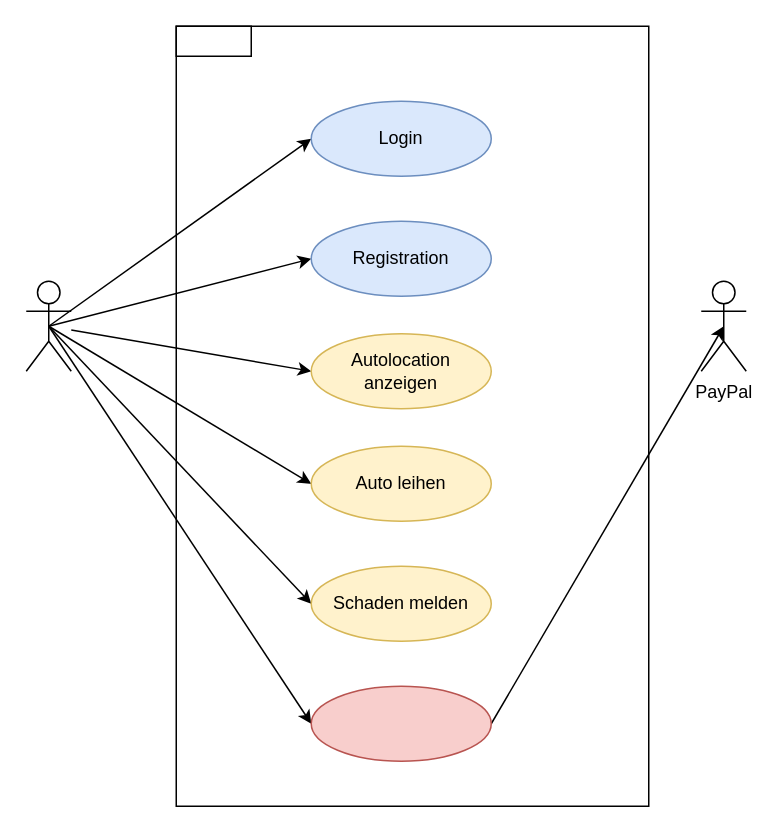
Some shapes in this 779 by 833 pixel diagram are drawn without their labels. The centre of each missing label's shape, as x and y in pixels:
"Caring" goes at [213,40].
"User" goes at [48,325].
"Zahlungsmethode hinzufügen" goes at [400,723].
